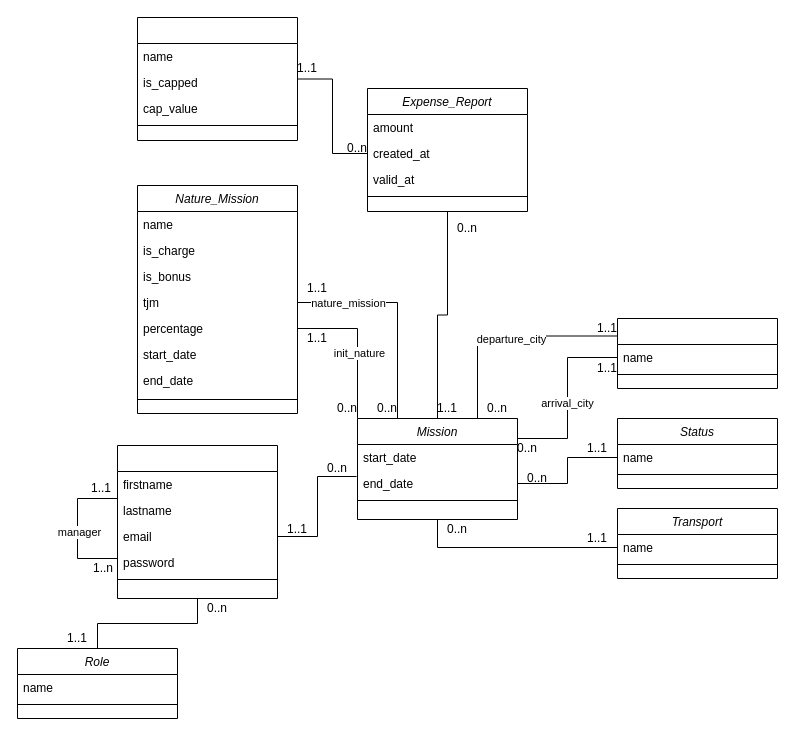
This 795x736 diagram has some shape labels left out. The box of each missing label's shape, as (x1, y1, x2, y2) in pixels:
City: (616, 318, 778, 388)
Nature_Report: (136, 16, 298, 140)
User: (116, 444, 278, 598)
